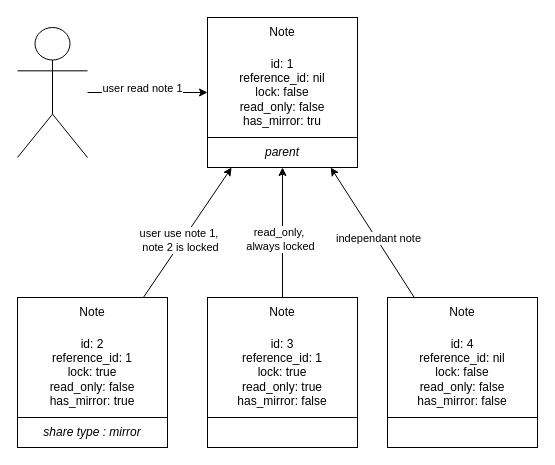
This 555x465 diagram has some shape labels left out. The centre of each missing label's shape, as x and y in pixels:
share type : copy content: (x=462, y=432)
share type : read only: (x=282, y=432)
User: (x=52, y=92)
